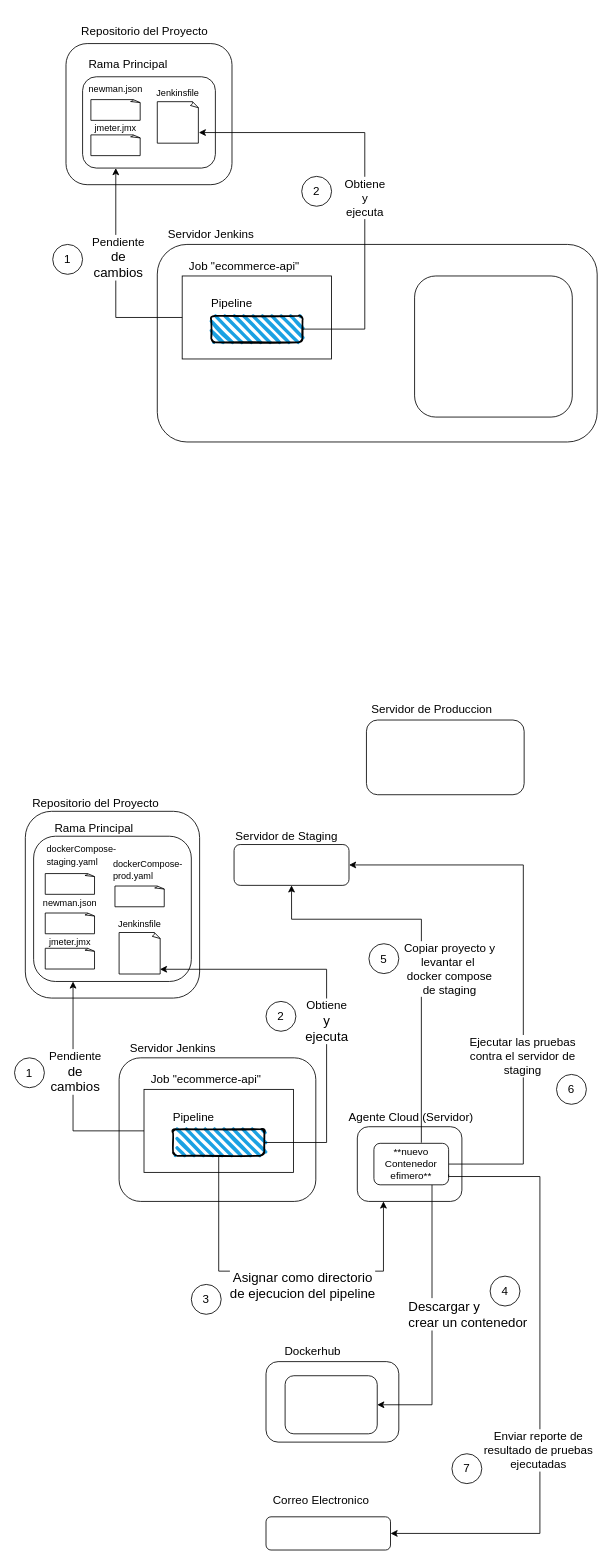
The diagram is 612 pixels wide and 1565 high, and some of its shapes have lost their labels. Each missing label, with the centre of its shape:
Agente Cloud: point (493, 346)
Imagen docker con dependencias necesarias para pruebas: point (330, 1404)
